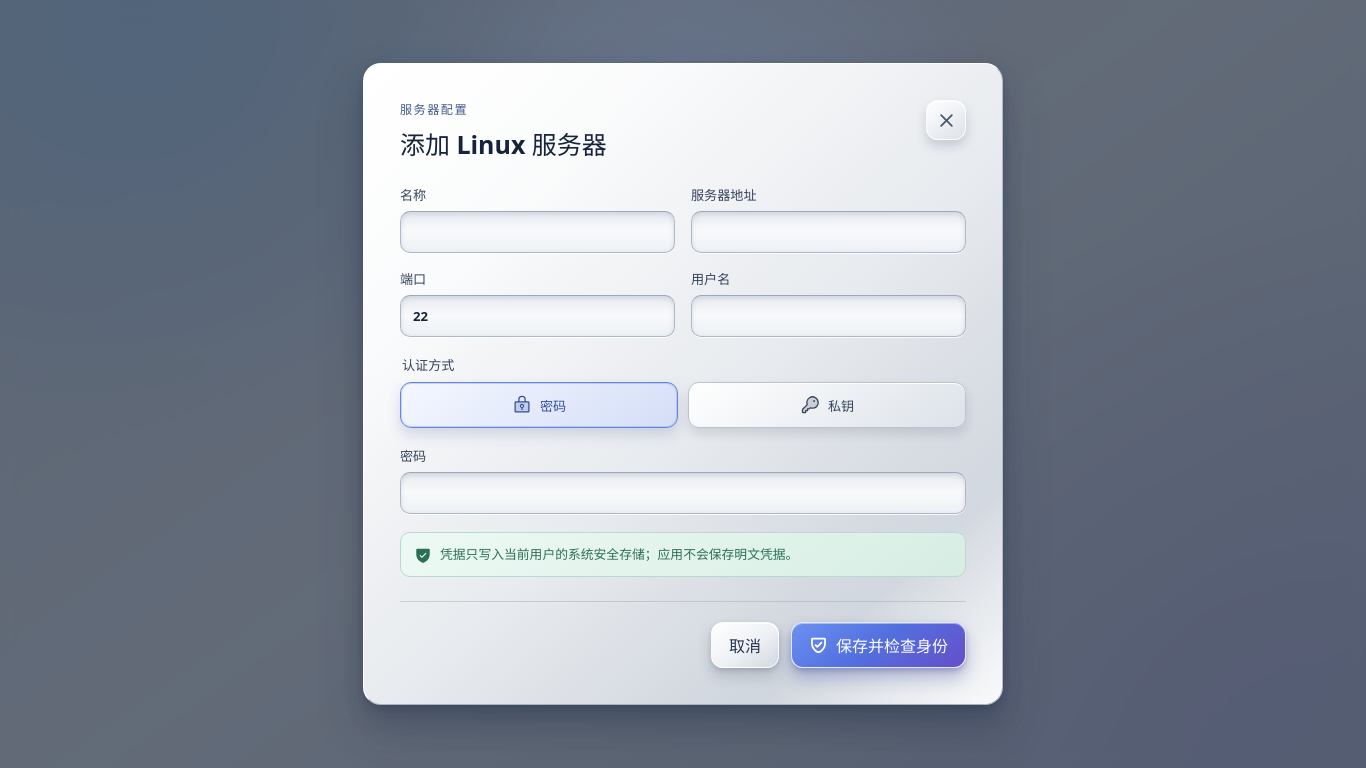
AddServerDialog › submits a typed request and clears the password after success
In the field labelled "名称": (538, 232) [400,211,675,253], type "网站服务器"
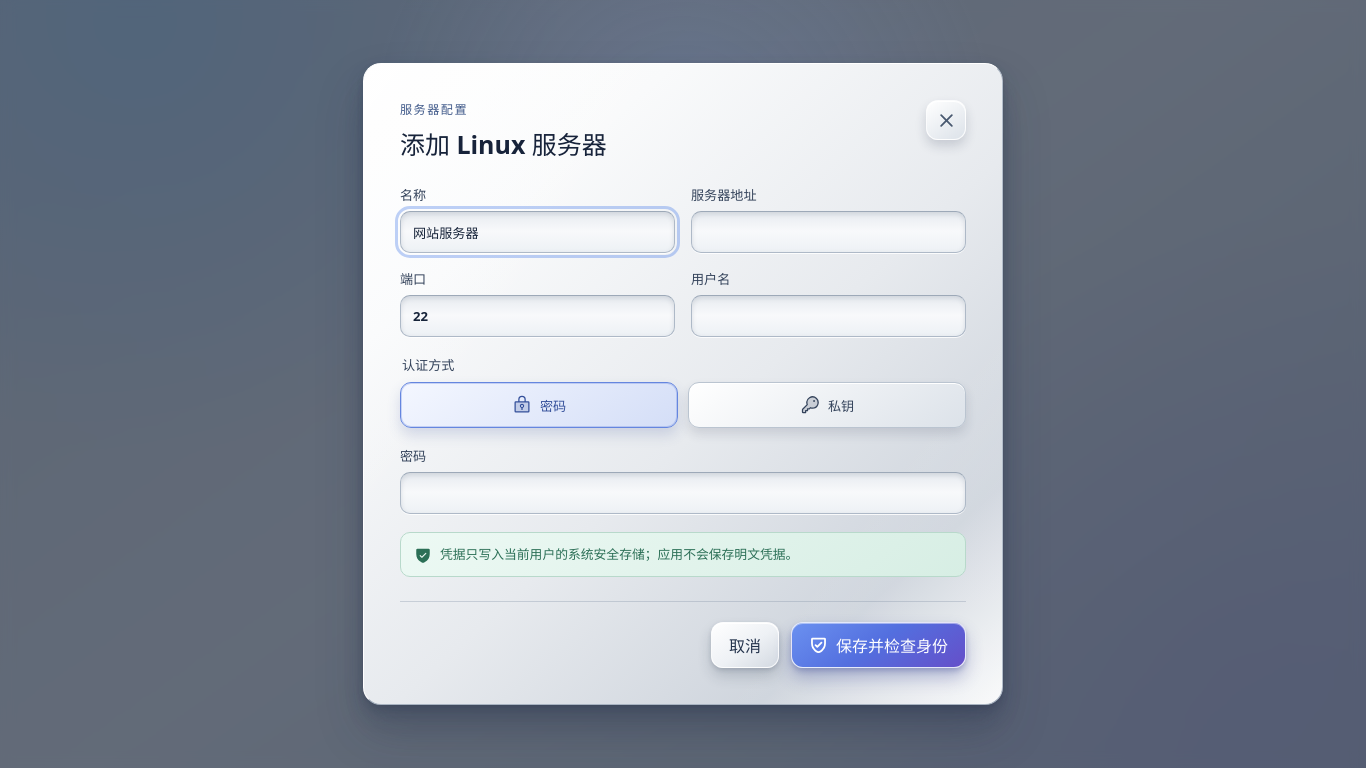
In the field labelled "服务器地址": (828, 232) [691,211,966,253], type "10.0.0.8"
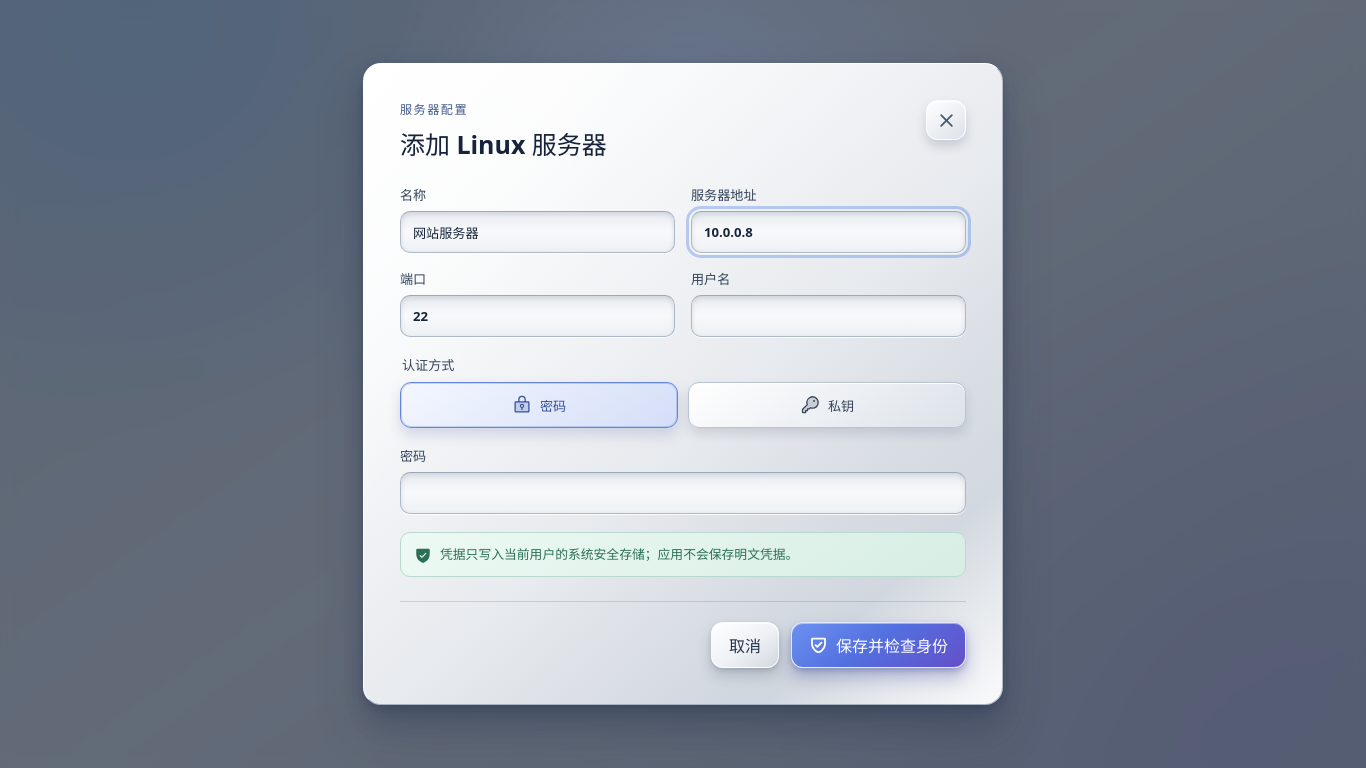
In the field labelled "用户名": (828, 316) [691,295,966,337], type "root"
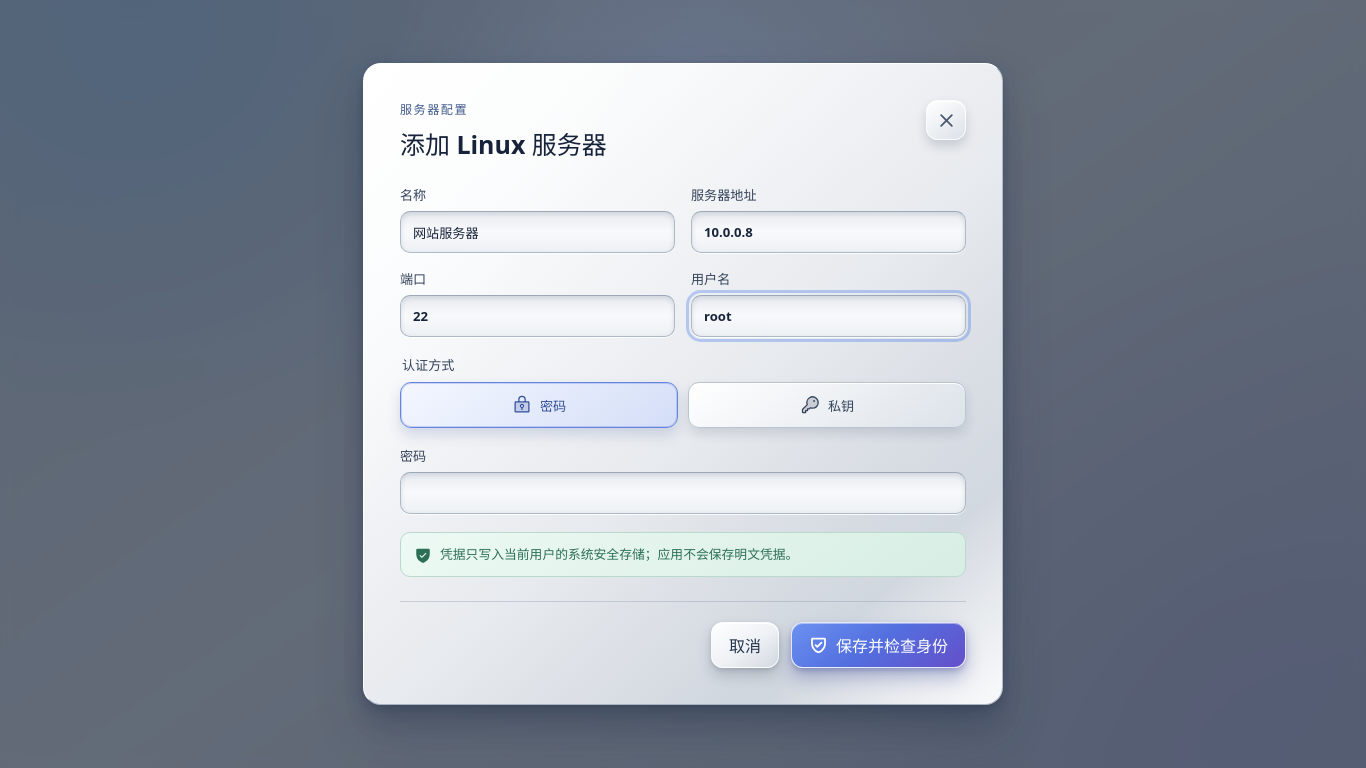
In the password field labelled "密码": (683, 493) [400,472,966,514], type "canary-password"
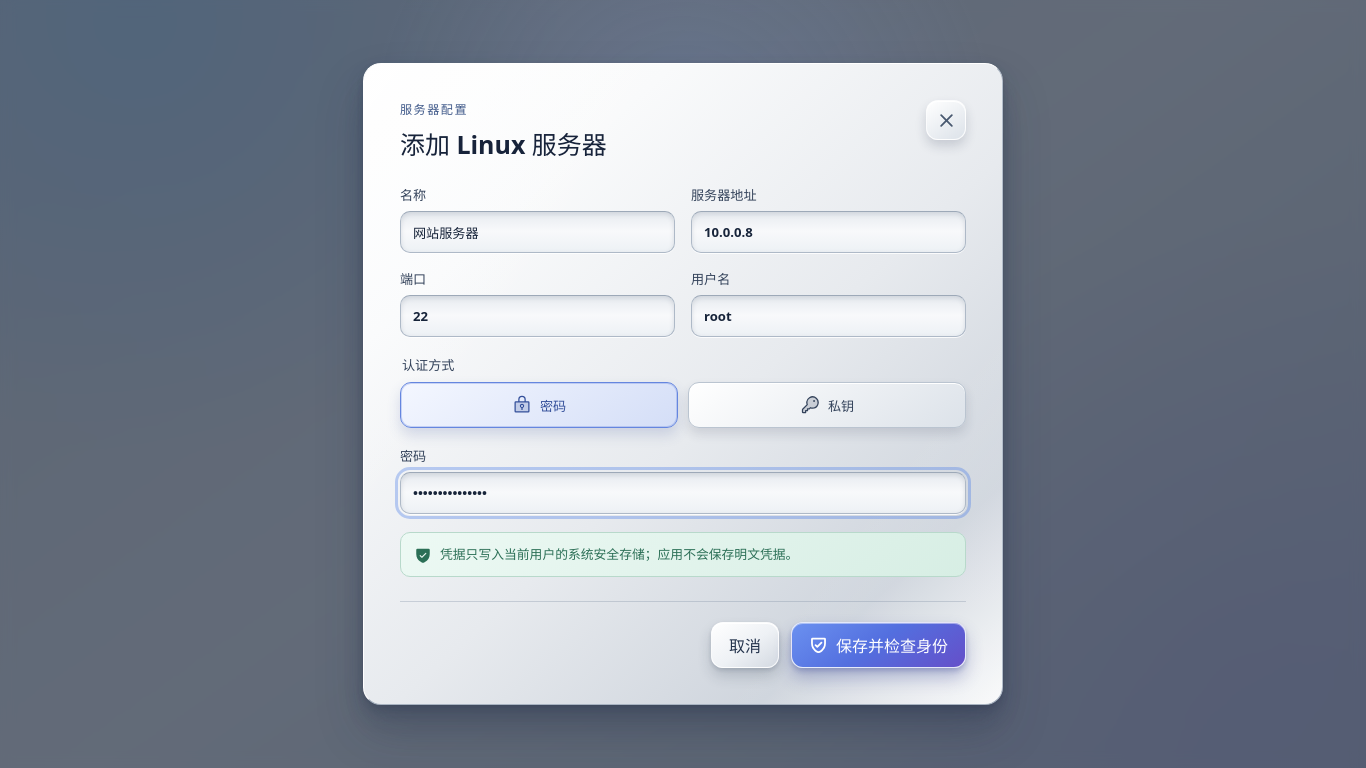
Click the button "保存并检查身份": click(878, 645) [791,622,966,668]
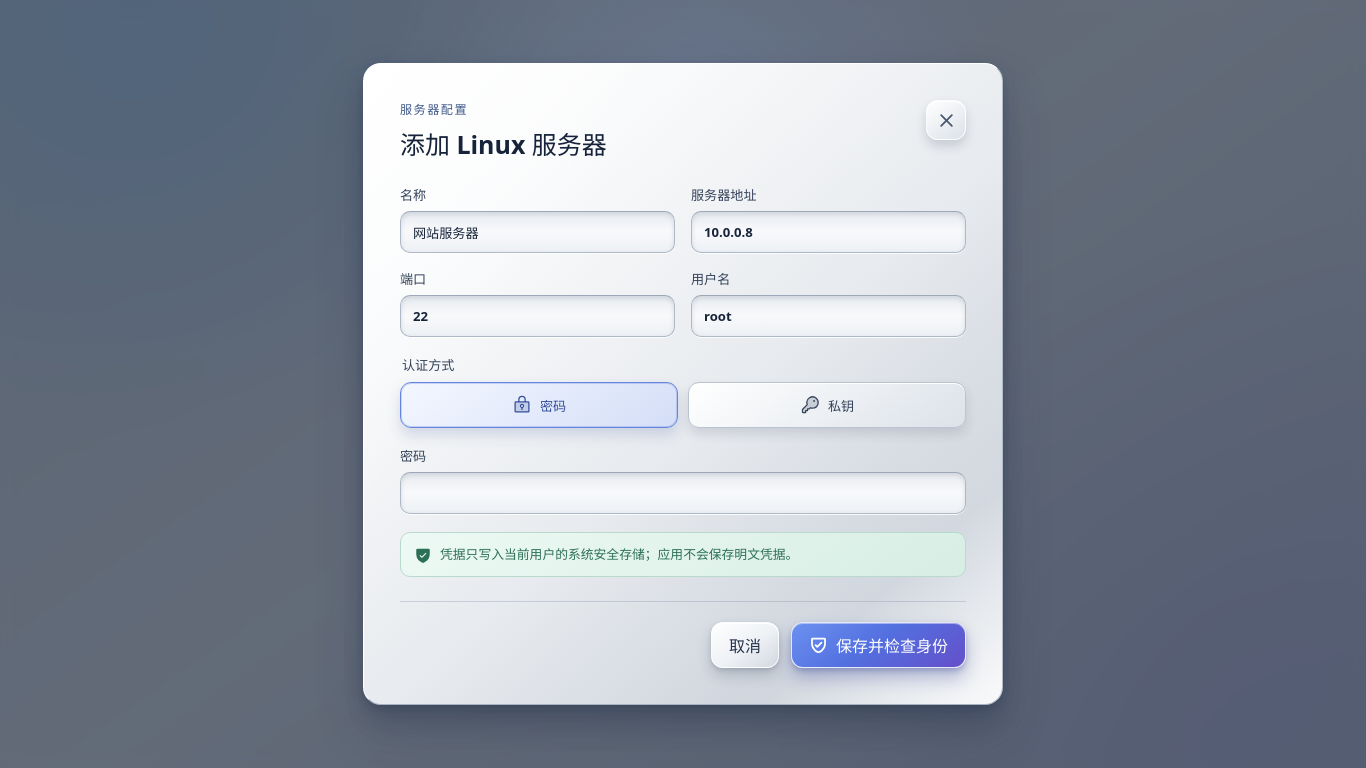
Check: the password field labelled "密码" is empty, box [400,472,966,514]
